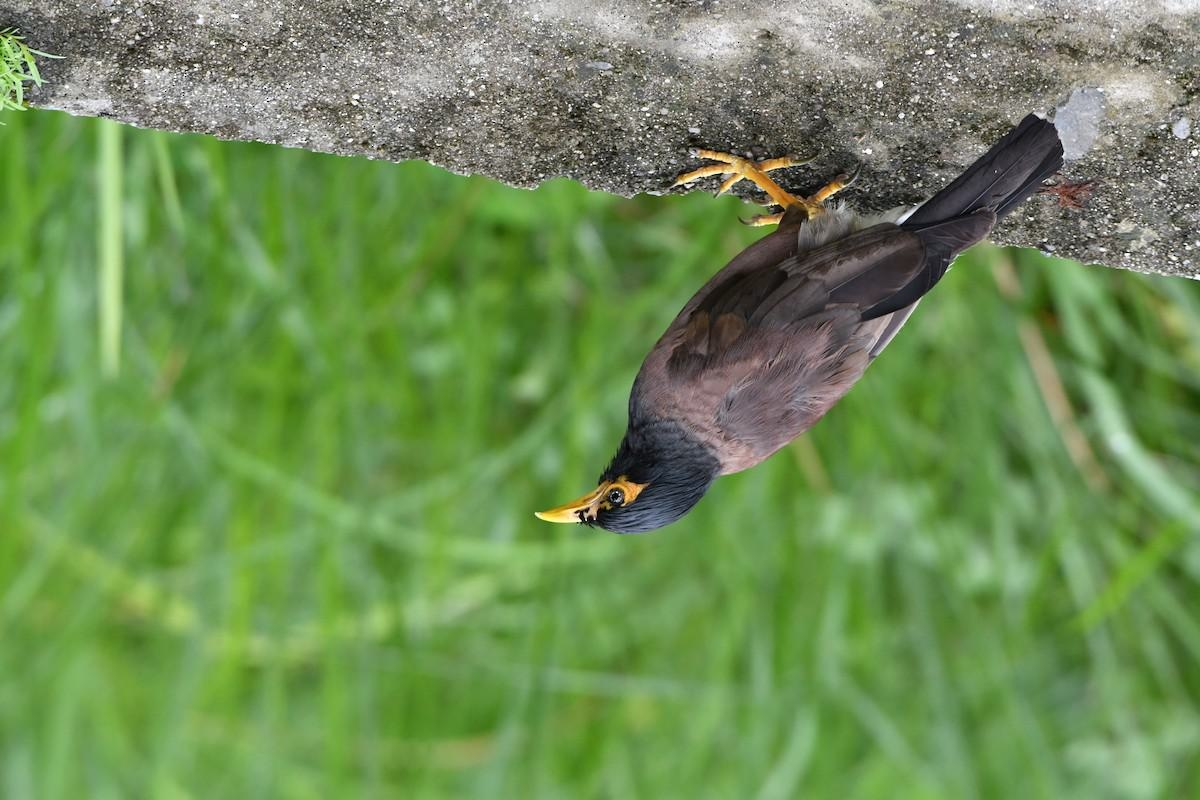myna: (490, 117, 1051, 591)
